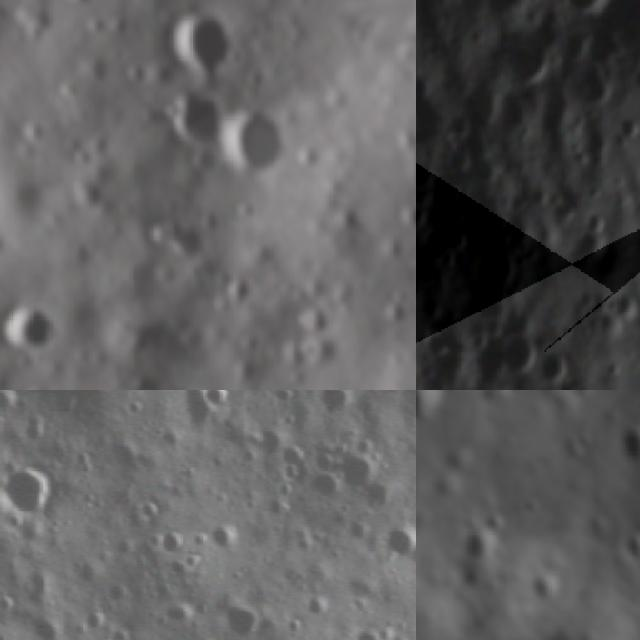crater: (210, 91, 308, 193), (152, 0, 252, 91), (160, 80, 240, 158), (0, 287, 74, 370), (144, 205, 218, 273), (502, 25, 568, 88), (0, 458, 63, 519), (116, 242, 174, 298), (366, 510, 416, 567), (457, 518, 508, 572), (183, 136, 235, 187), (329, 446, 384, 494), (262, 439, 313, 488), (495, 326, 539, 381), (211, 596, 264, 640), (427, 223, 470, 271), (377, 277, 416, 329), (525, 565, 568, 612), (463, 82, 500, 132), (416, 390, 456, 431), (202, 518, 245, 556), (478, 248, 517, 288), (306, 390, 354, 422), (389, 193, 416, 242), (153, 598, 193, 630), (465, 0, 539, 17), (557, 0, 619, 20), (147, 527, 185, 559), (298, 593, 334, 622), (618, 527, 640, 574), (538, 350, 570, 381), (196, 390, 239, 413), (582, 203, 609, 237), (610, 291, 638, 320), (616, 110, 640, 143), (474, 155, 497, 184), (347, 624, 382, 640), (626, 161, 640, 195)
